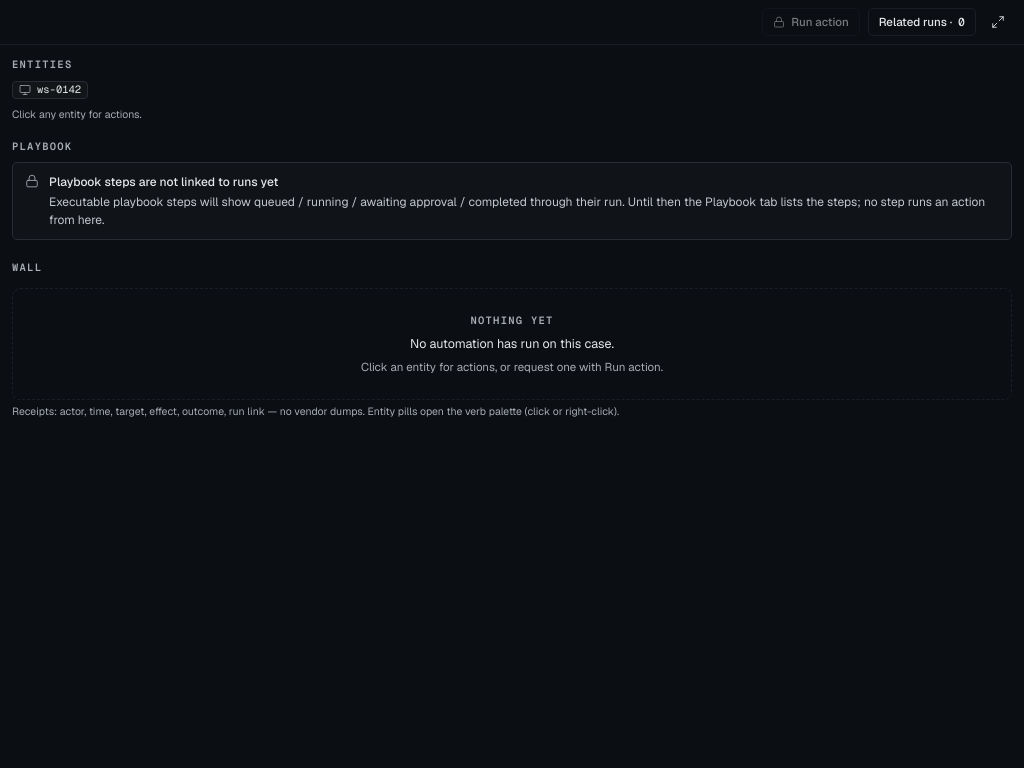
it: without soar:run: Run action is gated, palette says why
This screenshot has width=1024, height=768.
Expected: the text "No automation has run on this case." is shown, [410, 335, 614, 352]
Expected: the button "Run action" is disabled, [762, 8, 860, 36]
Click the button with aria-label "Actions for ws-0142" at [50, 90], box [12, 81, 88, 99]
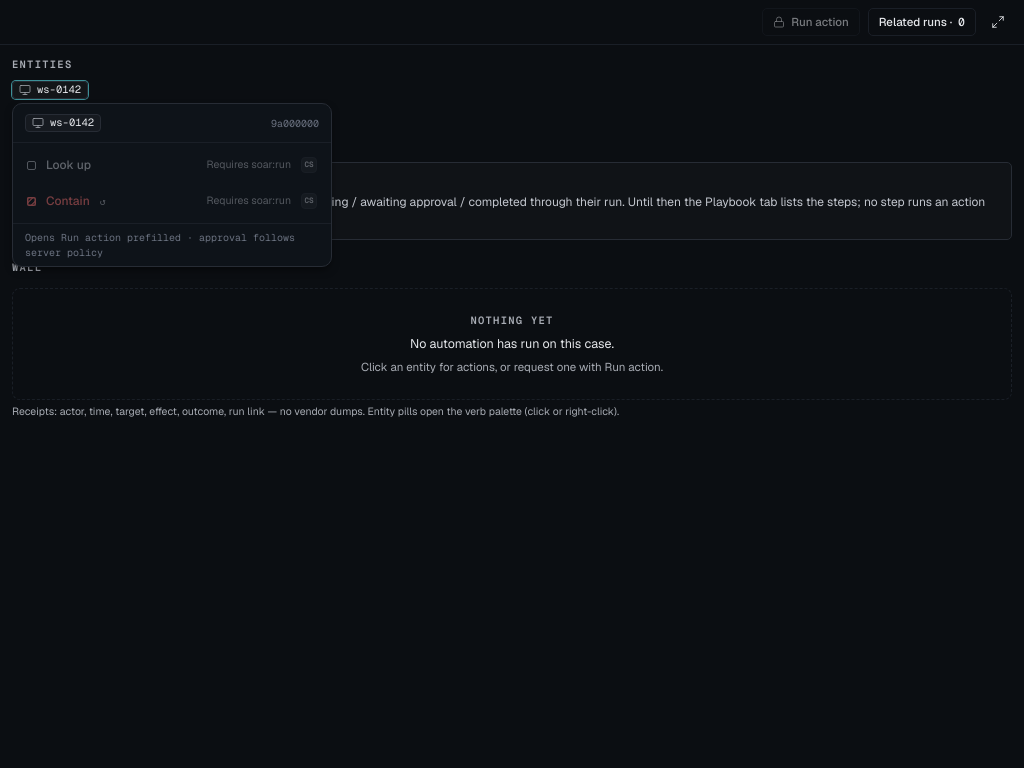
Expected: the 1st text "Requires soar:run" is shown, [206, 157, 291, 173]
